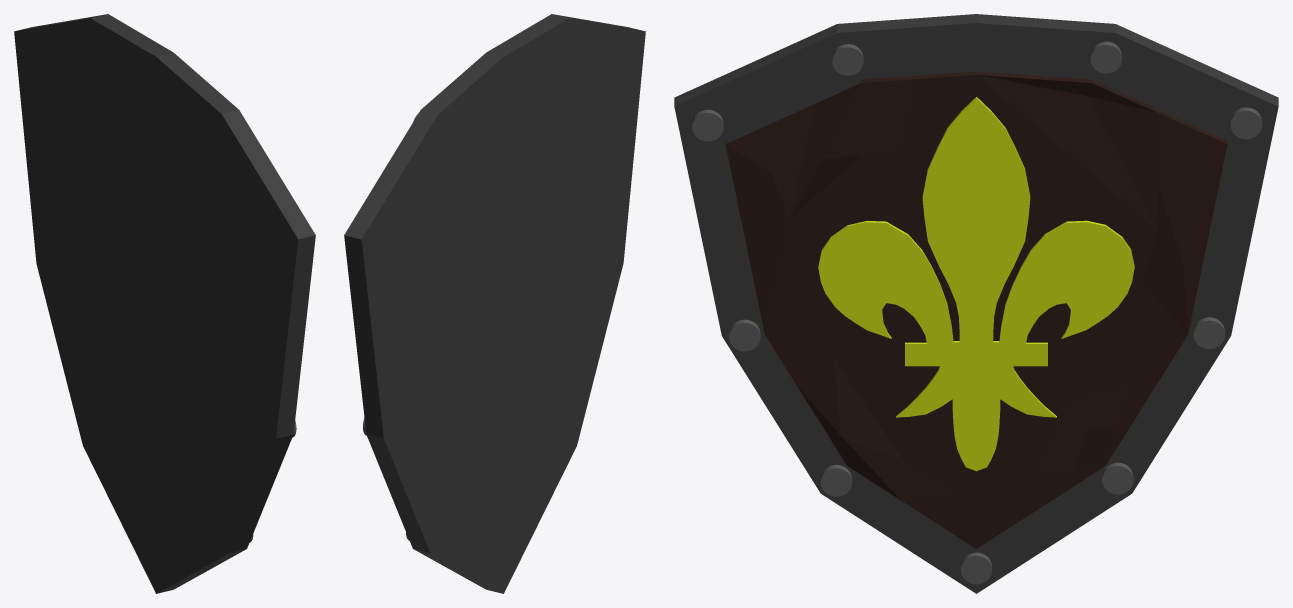
File: bouclier.glb
The picture shows the model from 3 angles, left to right: view 1: azimuth 30°, elevation 25°; view 2: azimuth 150°, elevation 25°; view 3: azimuth 270°, elevation 25°; orthographic projection. The views are drawn at different scales.
Parts seen in each view (by area): view 1: Plan; view 2: Plan; view 3: Plan.001, Plan, Cube.001, Cylindre.008, Cylindre.007, Cylindre.003, Cylindre.001, Cylindre.004, Cylindre.006, Cylindre, Cylindre.002, Cylindre.005.
Boxes of the visible parts, x1,y1,x2,y2 form: Plan: (14,14,315,593); Plan: (344,14,645,593); Plan.001: (725,71,1227,548); Plan: (674,14,1278,593); Cube.001: (818,97,1134,471); Cylindre.008: (960,552,992,584); Cylindre.007: (1090,41,1121,73); Cylindre.003: (820,465,852,496); Cylindre.001: (692,109,723,141); Cylindre.004: (1102,462,1133,494); Cylindre.006: (1230,107,1261,139); Cylindre: (832,44,863,75); Cylindre.002: (729,319,760,351); Cylindre.005: (1193,317,1224,349).
Size of the model in its own units: 0.1202 by 2 by 1.92.
